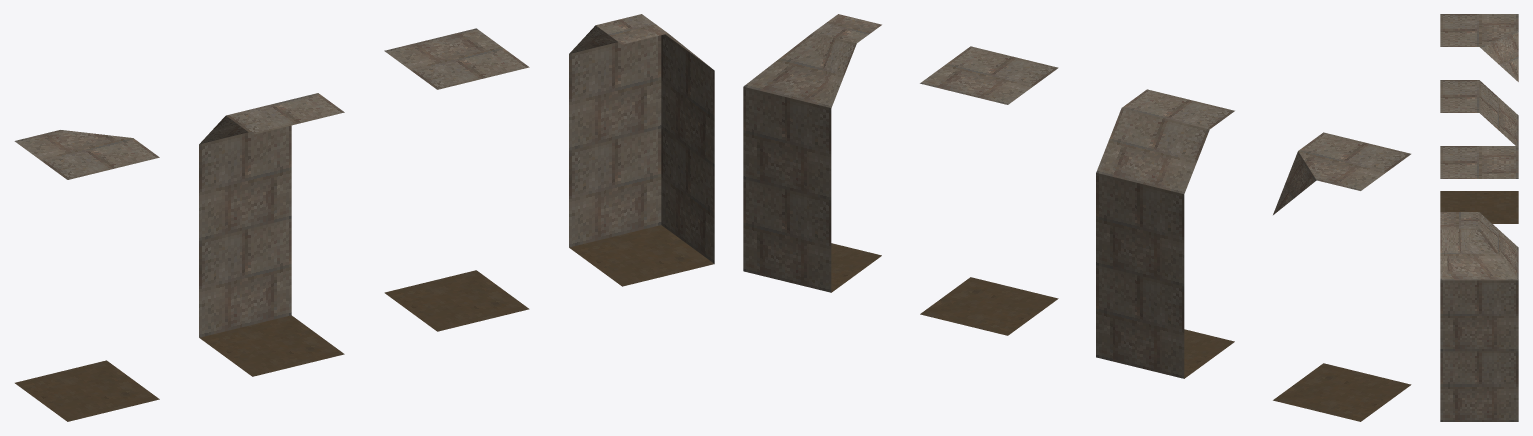
The model's file is Tileset_OtoC.gltf.
The picture shows the model from 3 angles, left to right: view 1: azimuth 30°, elevation 25°; view 2: azimuth 150°, elevation 25°; view 3: azimuth 270°, elevation 25°; orthographic projection. The views are drawn at different scales.
Parts seen in each view (by area): view 1: corn-in-col, wall-col, floor-col, corn-out-col; view 2: wall-col, corn-in-col, corn-out-col, floor-col; view 3: corn-in-col, corn-out-col, wall-col, floor-col.
Part boxes in pixels (left/top/right/bottom): corn-in-col: left=569, top=14, right=714, bottom=286; wall-col: left=199, top=93, right=344, bottom=376; floor-col: left=384, top=28, right=529, bottom=331; corn-out-col: left=14, top=130, right=159, bottom=421; wall-col: left=1096, top=89, right=1234, bottom=378; corn-in-col: left=743, top=14, right=881, bottom=292; corn-out-col: left=1273, top=132, right=1411, bottom=421; floor-col: left=920, top=46, right=1058, bottom=335; corn-in-col: left=1440, top=212, right=1518, bottom=421; corn-out-col: left=1440, top=14, right=1518, bottom=223; wall-col: left=1440, top=80, right=1518, bottom=145; floor-col: left=1440, top=146, right=1518, bottom=178.
Size of the model in its own units: 7 by 2.5 by 1.
1 material, 1 textured.
